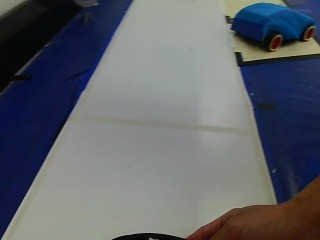car: (222, 1, 318, 60)
